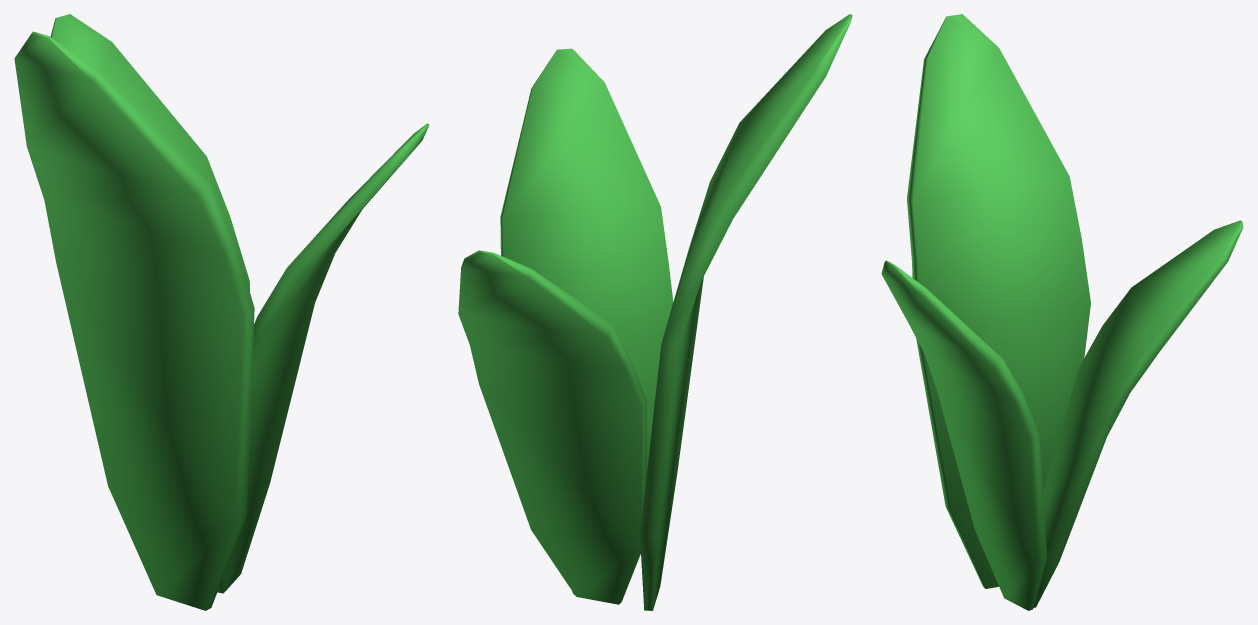
File: Grass_S.fbx
3 renders of one model, left to right at view 1: azimuth 30°, elevation 25°; view 2: azimuth 150°, elevation 25°; view 3: azimuth 270°, elevation 25°, orthographic. The views are drawn at different scales.
Parts seen in each view (by area): view 1: Grass_S; view 2: Grass_S; view 3: Grass_S.
Part boxes in pixels (x1=…): Grass_S: x1=14, y1=14, x2=429, y2=610; Grass_S: x1=458, y1=14, x2=852, y2=610; Grass_S: x1=881, y1=14, x2=1243, y2=610.
Size of the model in its own units: 45.14 by 75.06 by 49.16.
